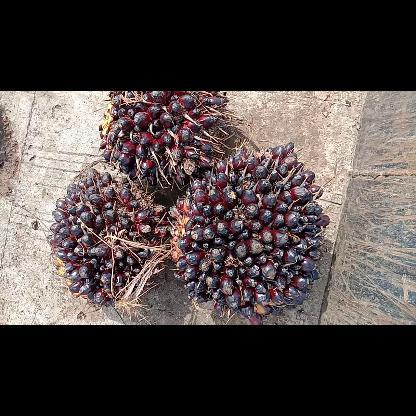TBS mentah: (167, 142, 332, 324), (48, 164, 172, 312), (96, 90, 230, 192)
